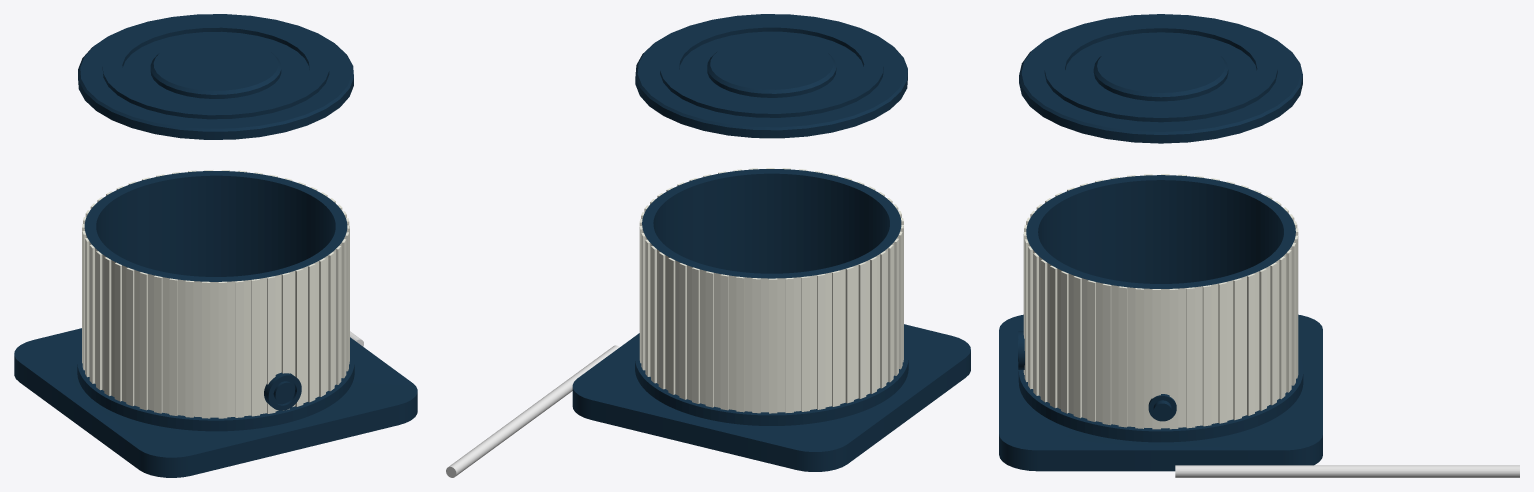
The model's file is 3DMODEL1.glb.
3 renders of one model, left to right at view 1: azimuth 30°, elevation 25°; view 2: azimuth 150°, elevation 25°; view 3: azimuth 270°, elevation 25°, orthographic. The views are drawn at different scales.
Visible parts, largest first — view 1: Cylinder, Circle.001, Cube, Cylinder.001; view 2: Cylinder, Circle.001, Cube, Cylinder.003; view 3: Cylinder, Circle.001, Cube, Cylinder.003, Cylinder.002.
Part boxes in pixels (x1=…): Cylinder: x1=82, y1=170, x2=349, y2=418; Circle.001: x1=78, y1=14, x2=353, y2=139; Cube: x1=14, y1=328, x2=417, y2=477; Cylinder.001: x1=264, y1=372, x2=301, y2=410; Cylinder: x1=639, y1=168, x2=903, y2=413; Circle.001: x1=635, y1=14, x2=907, y2=138; Cube: x1=572, y1=324, x2=970, y2=471; Cylinder.003: x1=446, y1=345, x2=619, y2=477; Cylinder: x1=1023, y1=174, x2=1298, y2=429; Circle.001: x1=1019, y1=14, x2=1302, y2=143; Cube: x1=999, y1=314, x2=1322, y2=471; Cylinder.003: x1=1175, y1=465, x2=1519, y2=477; Cylinder.002: x1=1148, y1=394, x2=1176, y2=421.
Bounding box in the file's own units: 2.56 × 2.76 × 3.86.
